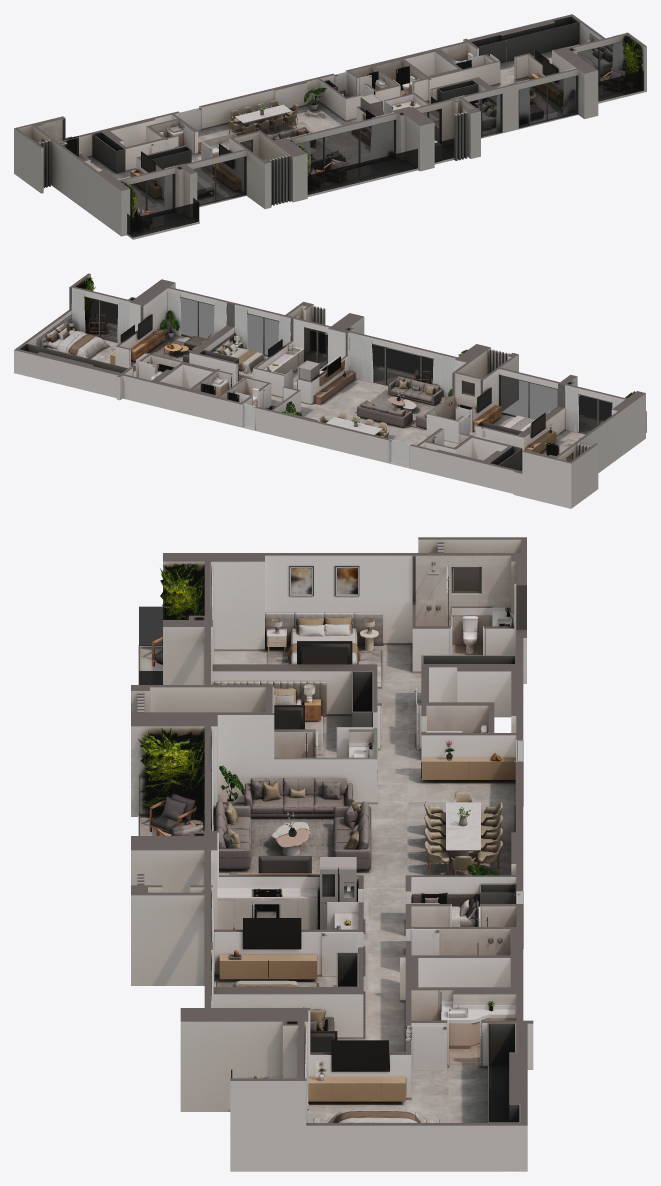
The picture shows the model from 3 angles, top to bottom: view 1: azimuth 30°, elevation 25°; view 2: azimuth 150°, elevation 25°; view 3: azimuth 270°, elevation 25°; orthographic projection. The views are drawn at different scales.
Visible parts, largest first — view 1: rendertotexture_2, Glass_0, bake_1, bakeplantas_3; view 2: rendertotexture_2, Glass_0, bake_1, B-ACC-06-Plant_4; view 3: rendertotexture_2, bake_1, bakeplantas_3, Glass_0, B-ACC-06-Plant_4.
Boxes of the visible parts, x1,y1,x2,y2 form: rendertotexture_2: (14,14,646,239); Glass_0: (43,42,643,237); bake_1: (134,48,625,222); bakeplantas_3: (124,38,642,229); rendertotexture_2: (14,273,646,508); Glass_0: (84,297,646,461); bake_1: (46,312,571,457); B-ACC-06-Plant_4: (160,310,551,434); rendertotexture_2: (131,537,533,1171); bake_1: (161,617,479,1122); bakeplantas_3: (138,563,282,1078); Glass_0: (139,568,487,1078); B-ACC-06-Plant_4: (219,663,500,875).
Size of the model in its own units: 31.56 by 2.73 by 9.95.
Materials: 5 (4 with a texture image).
